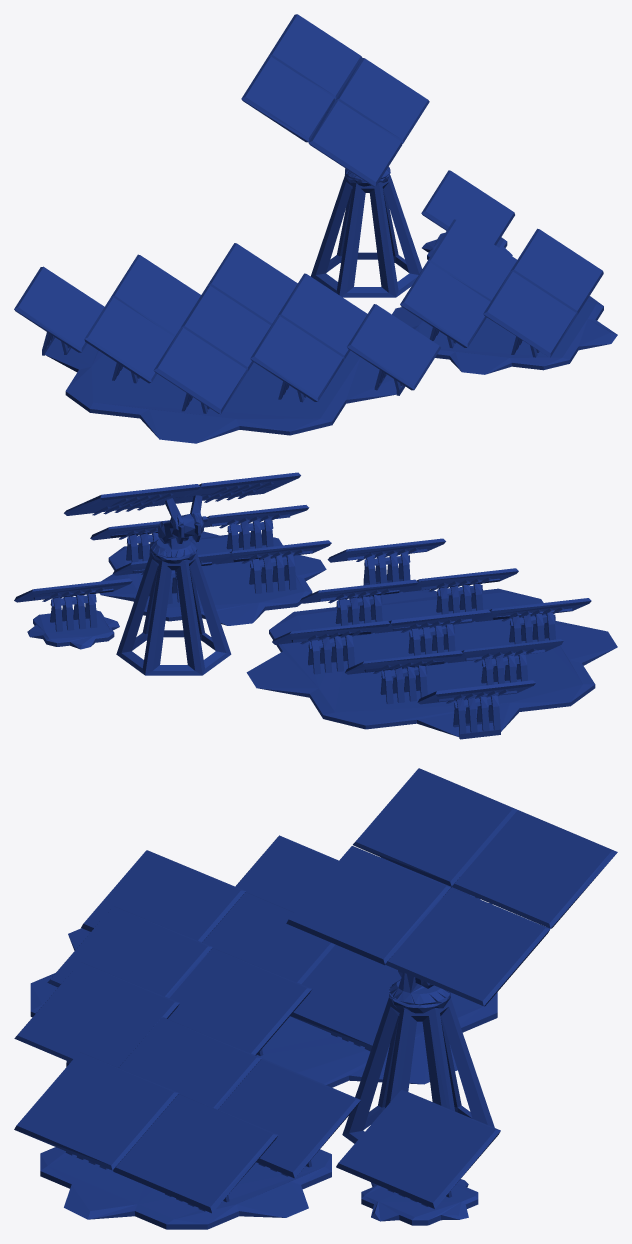
Rendered from solaire-C10bjwwY.glb.
3 renders of one model, top to bottom at view 1: azimuth 30°, elevation 25°; view 2: azimuth 150°, elevation 25°; view 3: azimuth 270°, elevation 25°, orthographic. The views are drawn at different scales.
Parts seen in each view (by area): view 1: SolarPanel_Body011; view 2: SolarPanel_Body011; view 3: SolarPanel_Body011.
Part boxes in pixels (<box>): SolarPanel_Body011: <box>14,14,617,443</box>; SolarPanel_Body011: <box>14,472,617,739</box>; SolarPanel_Body011: <box>14,768,617,1229</box>.
Bounding box in the file's own units: 10383 × 4040 × 7755.
